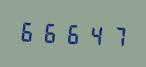four: (84, 20, 105, 48)
seven: (106, 21, 127, 49)
six: (18, 17, 39, 45), (40, 18, 61, 46), (62, 19, 83, 47)
